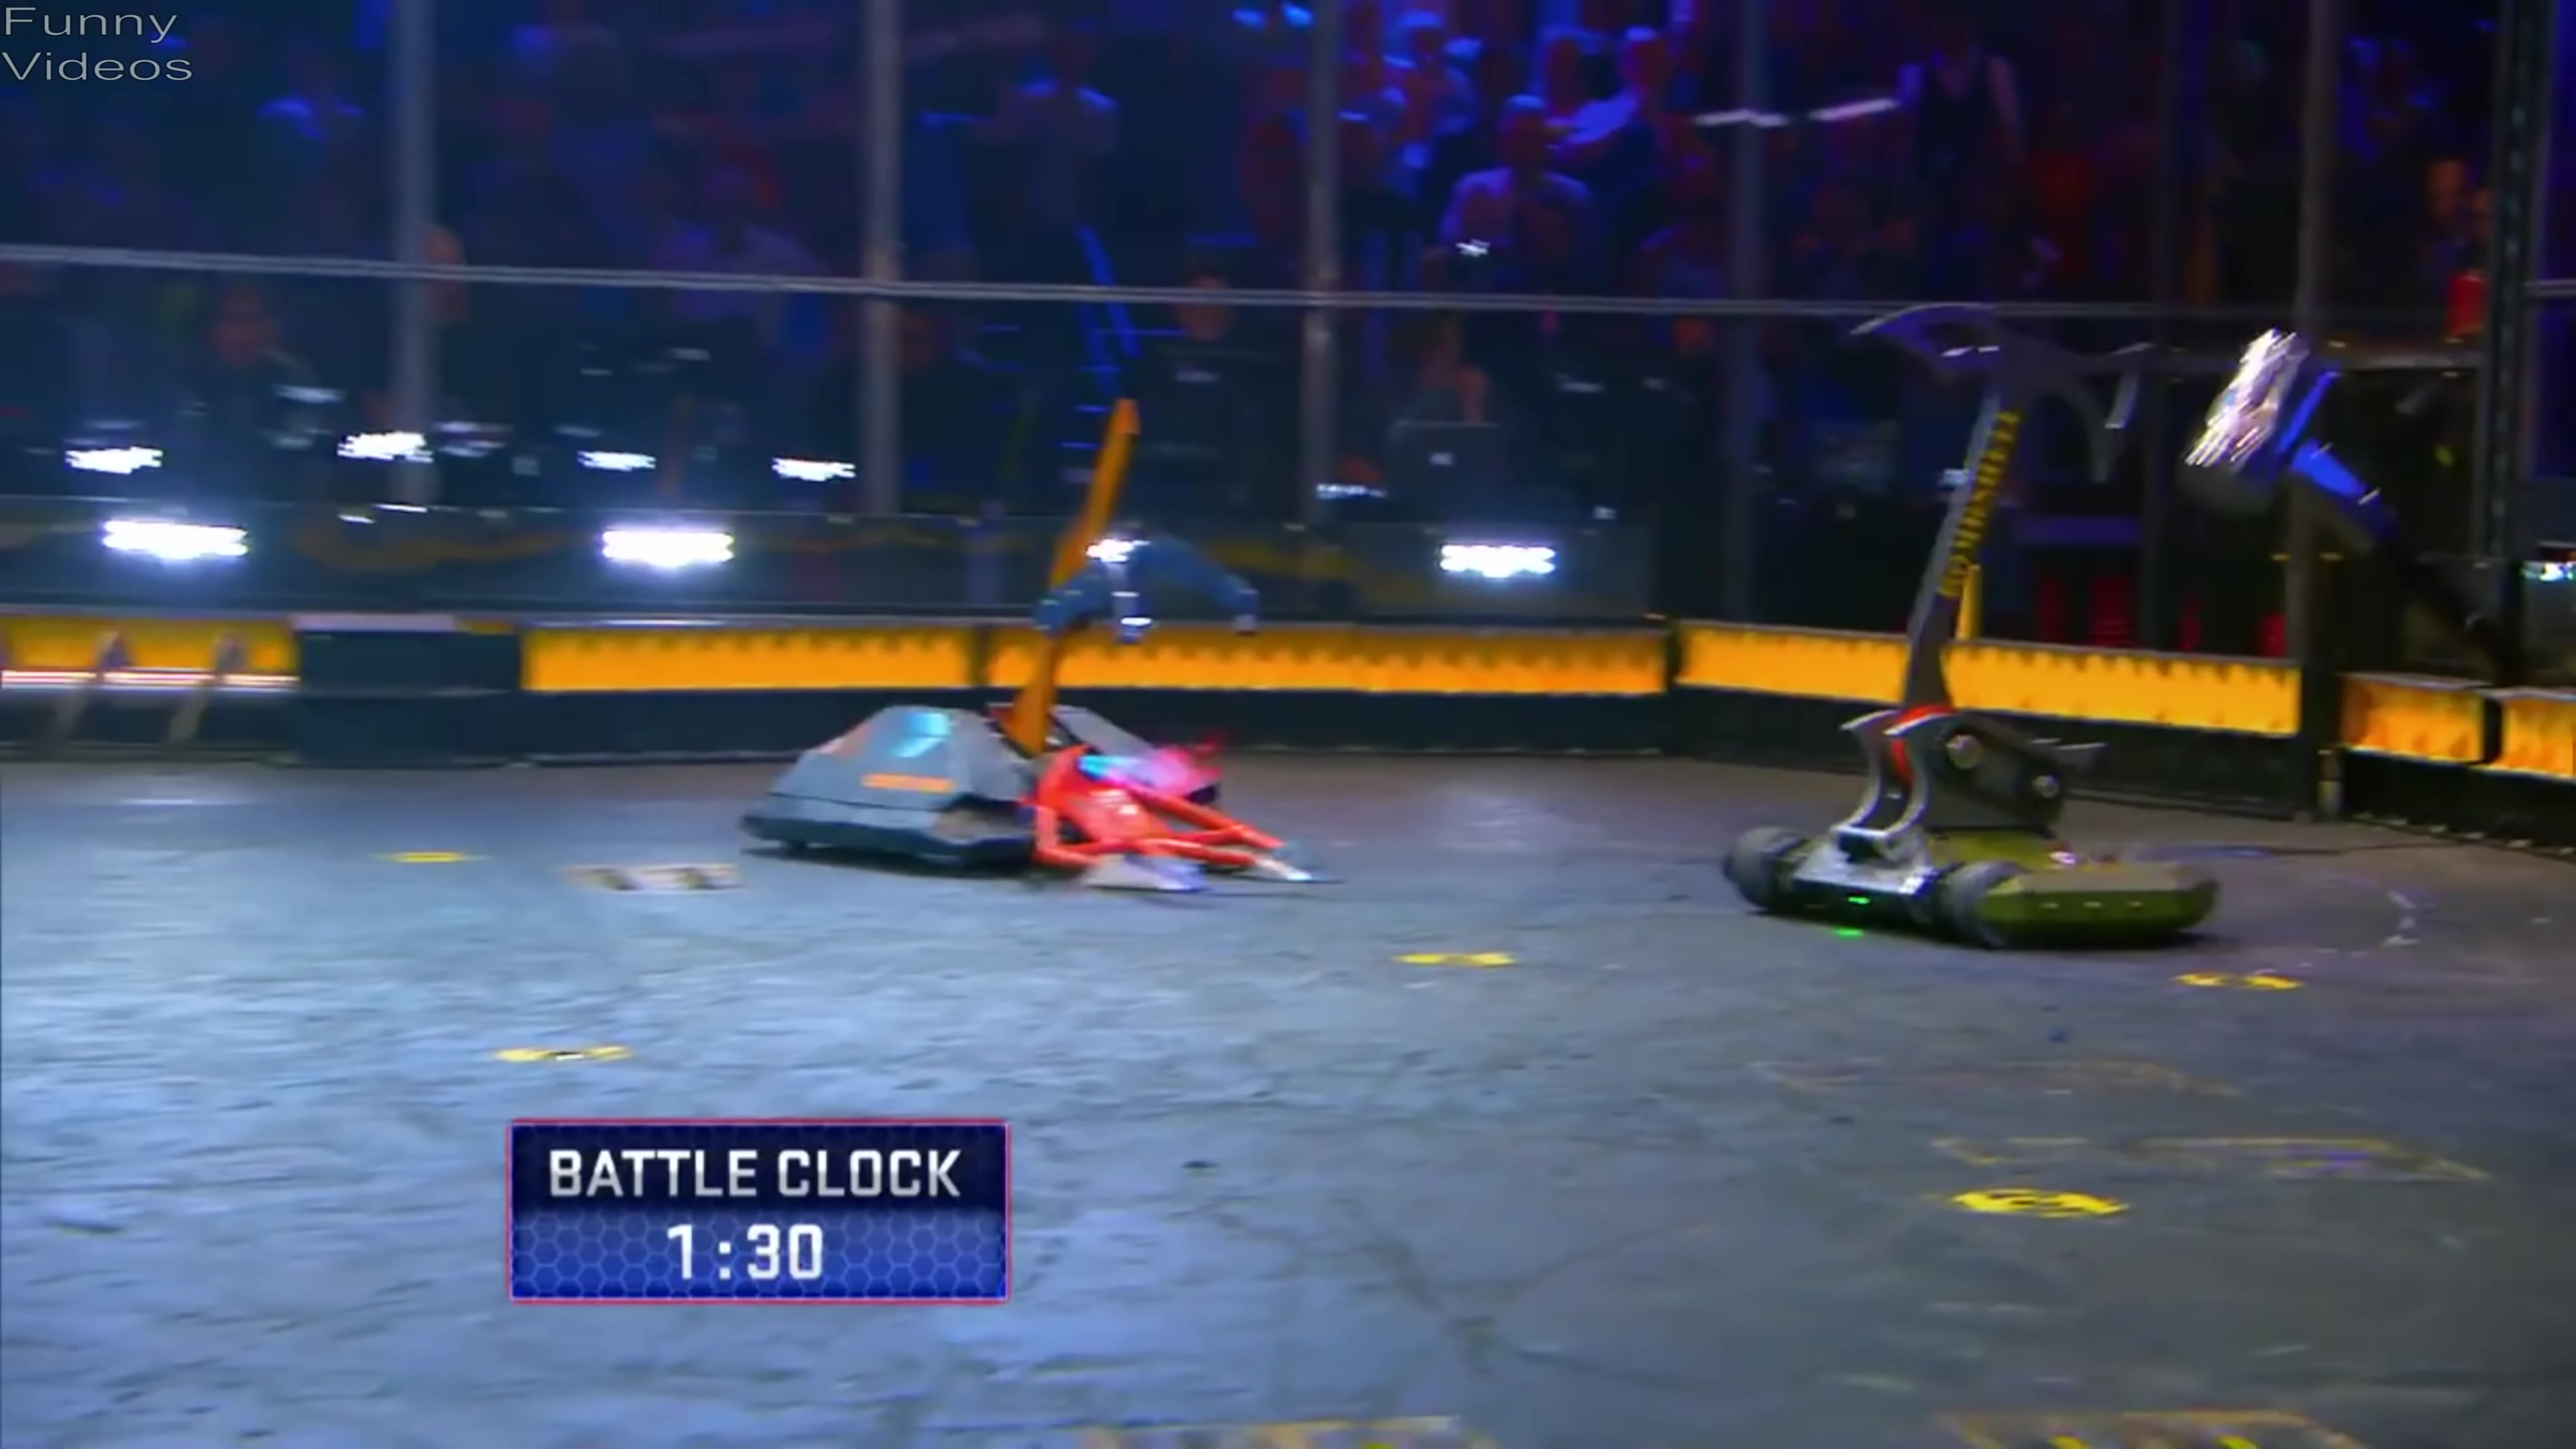combatbot: (1723, 304, 2208, 947), (743, 400, 1348, 892)
